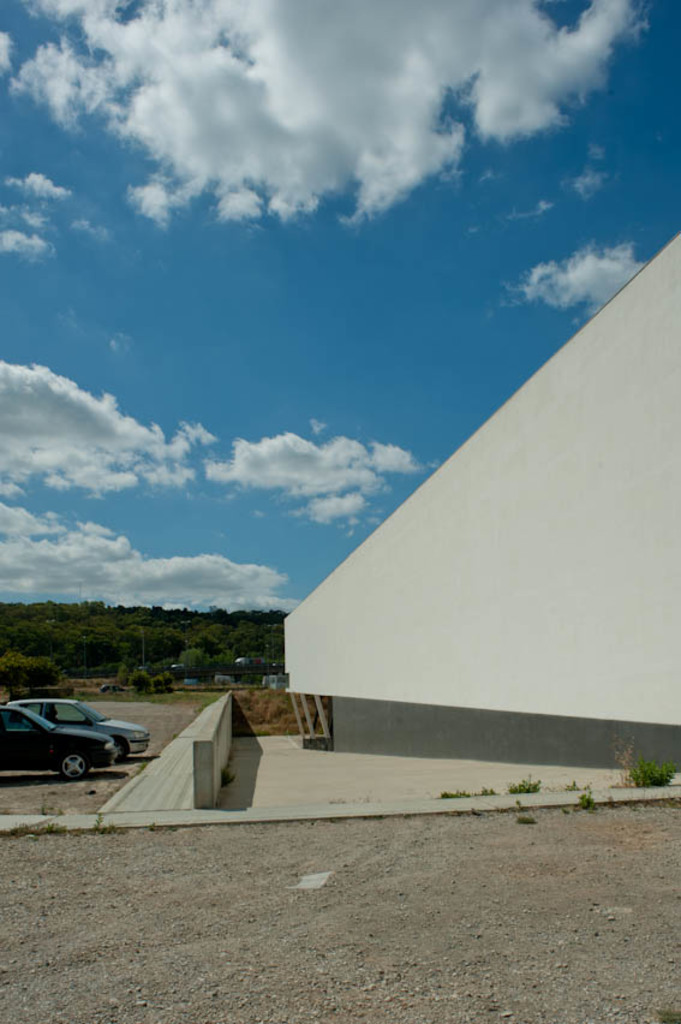cars: (0, 699, 121, 778), (31, 706, 152, 767)
